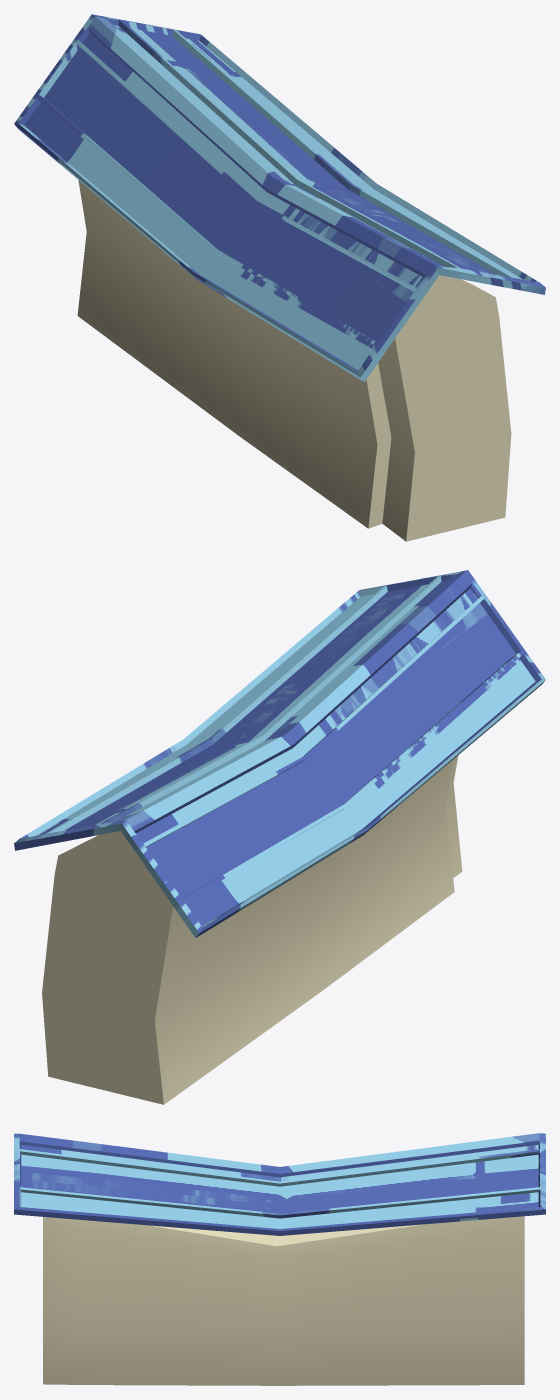
Rendered from destroyed house 2.fbx.
3 renders of one model, top to bottom at view 1: azimuth 30°, elevation 25°; view 2: azimuth 150°, elevation 25°; view 3: azimuth 270°, elevation 25°, orthographic. The views are drawn at different scales.
Visible parts, largest first — view 1: toit_2:toiture_2_LD, pCube83; view 2: toit_2:toiture_2_LD, pCube83; view 3: pCube83, toit_2:toiture_2_LD.
Part boxes in pixels (box(x1,y1,x2,y2)): toit_2:toiture_2_LD: box(14, 14, 545, 382); pCube83: box(77, 180, 511, 541); toit_2:toiture_2_LD: box(14, 570, 545, 937); pCube83: box(42, 755, 462, 1104); pCube83: box(43, 1216, 524, 1385); toit_2:toiture_2_LD: box(14, 1133, 545, 1235).
Bounding box in the file's own units: 2850 × 4093 × 8947.
